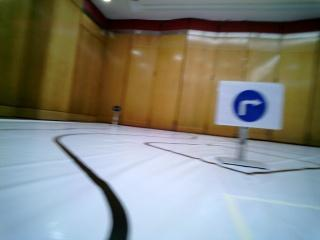right: (219, 85, 281, 126)
